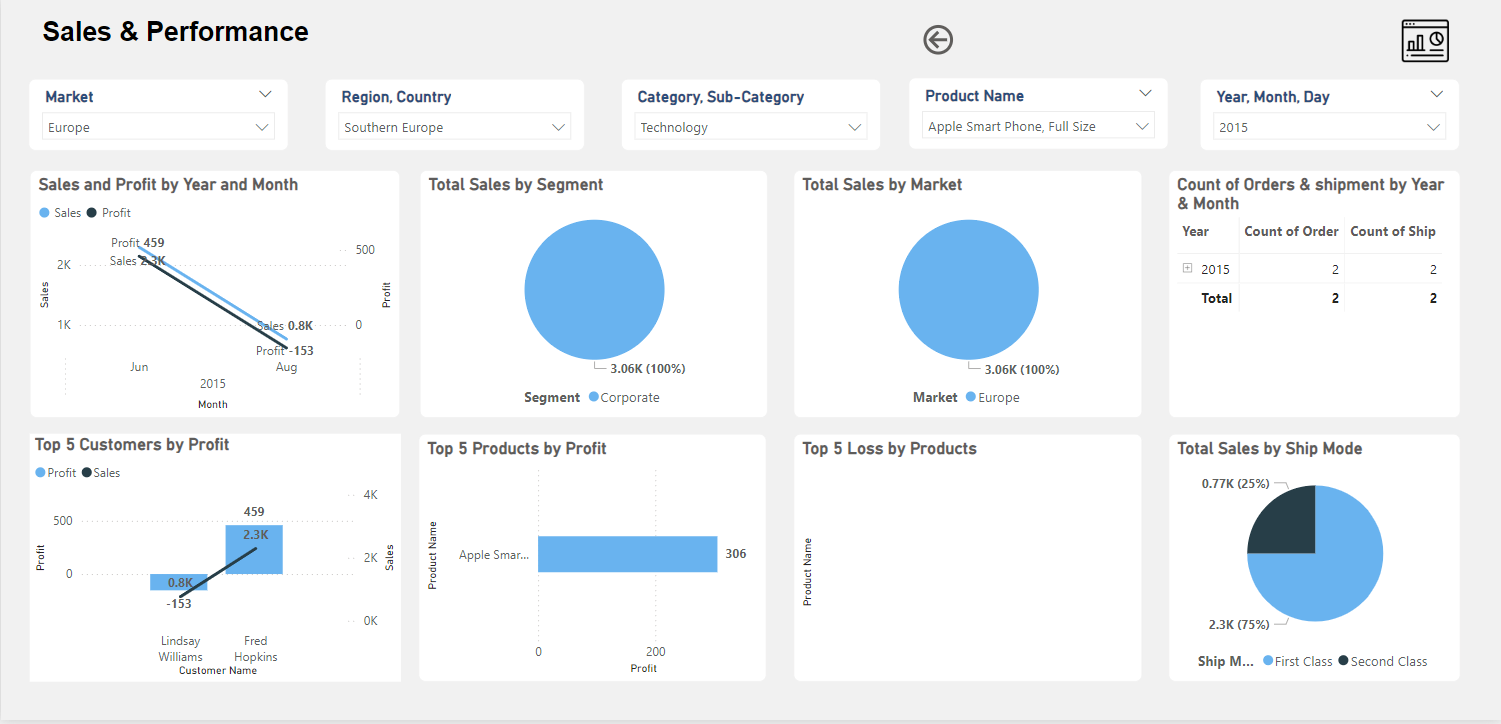

This screenshot's page, from the dashboard's own definition file:
{"tool":"powerbi","page":{"name":"Sales","canvas":[1500,720],"ordinal":1},"visuals":[{"type":"textbox","box":[28.6,12.3,530.1,58.6],"z":0},{"type":"image","box":[1388.5,12.3,70.9,57.2],"z":1000},{"type":"slicer","fields":{"Values":["Orders.Market"]},"box":[28,79,260,72],"z":2000},{"type":"slicer","fields":{"Values":["Orders.Region","Orders.Country"]},"box":[324.3,79,260.3,72.2],"z":3000},{"type":"slicer","fields":{"Values":["Orders.Category","Orders.Sub-Category"]},"box":[620,79,260.3,72.2],"z":4000},{"type":"slicer","fields":{"Values":["Orders.Product Name"]},"box":[907.5,77.7,260.3,72.2],"z":5000},{"type":"slicer","fields":{"Values":["Calendar.Year","Calendar.MonthSort","Calendar.Day"]},"box":[1199.1,79,260.3,72.2],"z":6000},{"type":"lineChart","fields":{"Category":["Calendar.Year","Calendar.MonthSort"],"Y":["Sum(Orders.Sales)"],"Y2":["Sum(Orders.Profit)"]},"box":[28.6,170.3,370.6,248],"z":7000},{"type":"pieChart","title":"Total Sales by Segment","fields":{"Category":["Orders.Segment"],"Y":["Sum(Orders.Sales)"]},"box":[418.3,170.3,348,248],"z":8000},{"type":"pieChart","title":"Total Sales by Market","fields":{"Y":["Sum(Orders.Sales)"],"Category":["Orders.Market"]},"box":[793.1,170.3,348.8,248],"z":9000},{"type":"pivotTable","title":"Count of Orders & shipment by Year & Month","fields":{"Rows":["Calendar.Year","Calendar.MonthSort"],"Values":["CountNonNull(Orders.Order Date)","Orders.Count of Ship"]},"box":[1167.8,170.3,291.6,248],"z":10000},{"type":"lineClusteredColumnComboChart","title":"Top 5 Customers by Profit","fields":{"Category":["Orders.Customer Name"],"Y":["Sum(Orders.Profit)"],"Y2":["Sum(Orders.Sales)"]},"box":[29,434,371,248],"z":11000},{"type":"clusteredBarChart","title":"Top 5 Products by Profit","fields":{"Category":["Orders.Product Name"],"Y":["Sum(Orders.Profit)"]},"box":[418,434,348,248],"z":12000},{"type":"clusteredBarChart","title":"Top 5 Loss by Products","fields":{"Category":["Orders.Product Name"],"Y":["Sum(Orders.Profit)"]},"box":[792.8,434.2,349,247.6],"z":13000},{"type":"pieChart","title":"Total Sales by Ship Mode","fields":{"Category":["Orders.Ship Mode"],"Y":["Sum(Orders.Sales)"]},"box":[1168,434,292,248],"z":14000},{"type":"actionButton","box":[917.1,20.4,99.5,39.5],"z":15000}]}

Visuals, with their boxes in screenshot pixels (x1, y1, x2, y2), scaled from the page's 1500x720 canvas onto the 1501x724 screenshot:
textbox: x1=29, y1=12, x2=559, y2=71
image: x1=1389, y1=12, x2=1460, y2=70
slicer - Orders.Market: x1=28, y1=79, x2=288, y2=152
slicer - Orders.Region x Orders.Country: x1=325, y1=79, x2=585, y2=152
slicer - Orders.Category x Orders.Sub-Category: x1=620, y1=79, x2=881, y2=152
slicer - Orders.Product Name: x1=908, y1=78, x2=1169, y2=151
slicer - Calendar.Year x Calendar.MonthSort: x1=1200, y1=79, x2=1460, y2=152
lineChart - Calendar.Year x Calendar.MonthSort: x1=29, y1=171, x2=399, y2=421
"Total Sales by Segment" pieChart: x1=419, y1=171, x2=767, y2=421
"Total Sales by Market" pieChart: x1=794, y1=171, x2=1143, y2=421
"Count of Orders & shipment by Year & Month" pivotTable: x1=1169, y1=171, x2=1460, y2=421
"Top 5 Customers by Profit" lineClusteredColumnComboChart: x1=29, y1=436, x2=400, y2=686
"Top 5 Products by Profit" clusteredBarChart: x1=418, y1=436, x2=767, y2=686
"Top 5 Loss by Products" clusteredBarChart: x1=793, y1=437, x2=1143, y2=686
"Total Sales by Ship Mode" pieChart: x1=1169, y1=436, x2=1461, y2=686
actionButton: x1=918, y1=21, x2=1017, y2=60
